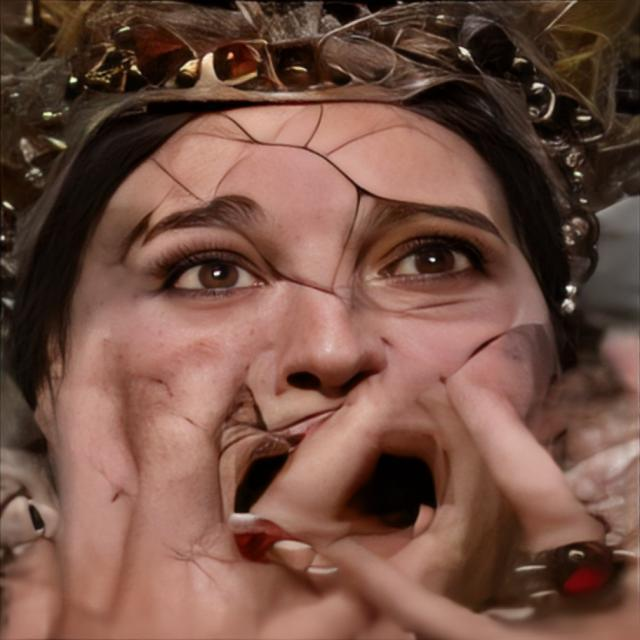fear: (55, 98, 557, 634)
